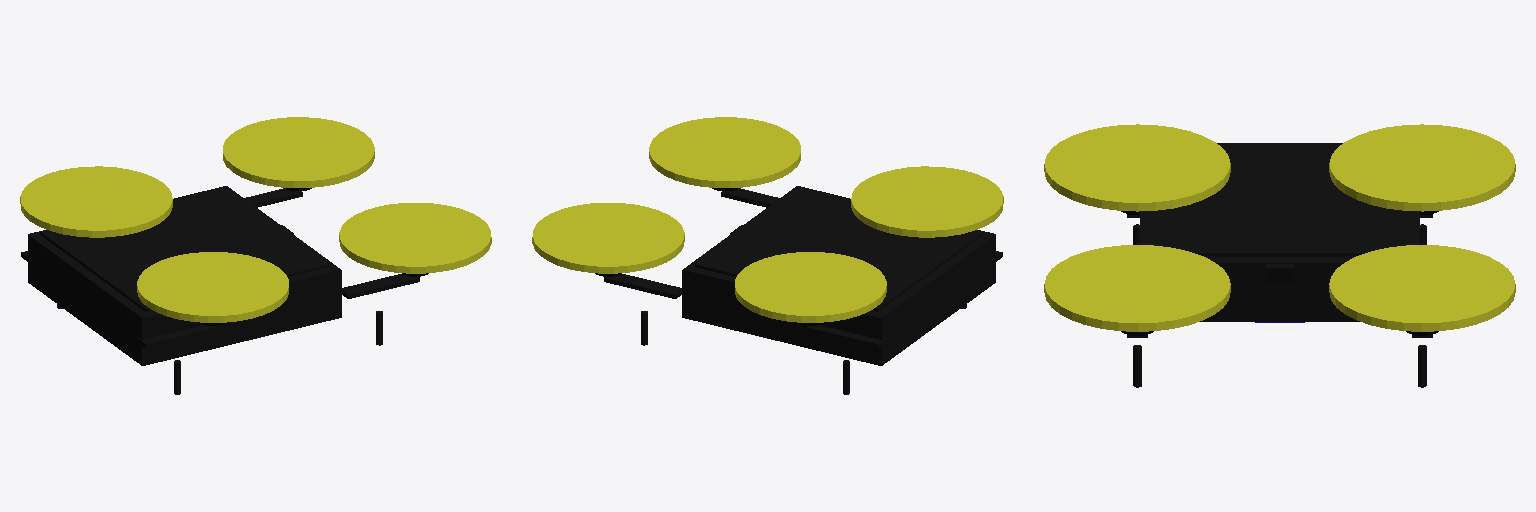
The robot description file, URDF, robot "spedix_s250q":
<?xml version="1.0"?>
  <robot name="spedix_s250q"
       arm="0.14"
       thrust2weight="2.8"
       kf="1.85e-8"
       km="7.94e-11">

  <!-- Frame Kit: 143g, Motors: 4x21g, ESCs: 4x13.5g, PDB: 22.5g, Flight Controller: 14g, 4S LiPo Battery: ~120g -->
  <!-- Gemfan Hurricane 51477 3-blade propellers: 4x4.15g -->
  <!-- Total estimated weight: ~400g (0.40kg) -->

  <!-- Main Body/Frame -->
  <link name="base_link">
    <inertial>
      <origin xyz="0 0 0"/>
      <mass value="0.40"/>  <!-- Total drone mass: 400g including 4S battery -->
      <inertia ixx="0.0032" ixy="0" ixz="0" iyy="0.0032" iyz="0" izz="0.0058"/>
    </inertial>

    <visual>
      <origin xyz="0 0 0"/>
      <geometry>
        <!-- Main carbon fiber frame body -->
        <box size="0.195 0.195 0.045"/>  <!-- Frame dimensions from specs -->
      </geometry>
      <material name="carbon_fiber">
        <color rgba="0.1 0.1 0.1 1"/>  <!-- Dark carbon fiber appearance -->
      </material>
    </visual>

    <collision>
      <origin xyz="0 0 0"/>
      <geometry>
        <!-- Simplified collision geometry -->
        <cylinder length="0.045" radius="0.10"/>
      </geometry>
    </collision>
  </link>

  <!-- Upper Frame Plate -->
  <link name="upper_plate">
    <inertial>
      <origin xyz="0 0 0"/>
      <mass value="0.025"/>
      <inertia ixx="2.5e-5" ixy="0" ixz="0" iyy="2.5e-5" iyz="0" izz="4.5e-5"/>
    </inertial>

    <visual>
      <origin xyz="0 0 0"/>
      <geometry>
        <box size="0.180 0.180 0.003"/>  <!-- 3mm carbon fiber plate -->
      </geometry>
      <material name="carbon_fiber">
        <color rgba="0.1 0.1 0.1 1"/>
      </material>
    </visual>
  </link>

  <!-- Lower Frame Plate -->
  <link name="lower_plate">
    <inertial>
      <origin xyz="0 0 0"/>
      <mass value="0.025"/>
      <inertia ixx="2.5e-5" ixy="0" ixz="0" iyy="2.5e-5" iyz="0" izz="4.5e-5"/>
    </inertial>

    <visual>
      <origin xyz="0 0 0"/>
      <geometry>
        <box size="0.180 0.180 0.003"/>  <!-- 3mm carbon fiber plate -->
      </geometry>
      <material name="carbon_fiber">
        <color rgba="0.1 0.1 0.1 1"/>
      </material>
    </visual>
  </link>

  <!-- Front Right Arm -->
  <link name="arm_fr">
    <inertial>
      <origin xyz="0.035 0 0"/>
      <mass value="0.015"/>
      <inertia ixx="1.5e-6" ixy="0" ixz="0" iyy="3.5e-5" iyz="0" izz="3.5e-5"/>
    </inertial>

    <visual>
      <origin xyz="0.035 0 0"/>
      <geometry>
        <box size="0.070 0.015 0.004"/>  <!-- Carbon fiber arm -->
      </geometry>
      <material name="carbon_fiber">
        <color rgba="0.1 0.1 0.1 1"/>
      </material>
    </visual>
  </link>

  <!-- Front Left Arm -->
  <link name="arm_fl">
    <inertial>
      <origin xyz="0.035 0 0"/>
      <mass value="0.015"/>
      <inertia ixx="1.5e-6" ixy="0" ixz="0" iyy="3.5e-5" iyz="0" izz="3.5e-5"/>
    </inertial>

    <visual>
      <origin xyz="0.035 0 0"/>
      <geometry>
        <box size="0.070 0.015 0.004"/>
      </geometry>
      <material name="carbon_fiber">
        <color rgba="0.1 0.1 0.1 1"/>
      </material>
    </visual>
  </link>

  <!-- Back Right Arm -->
  <link name="arm_br">
    <inertial>
      <origin xyz="0.035 0 0"/>
      <mass value="0.015"/>
      <inertia ixx="1.5e-6" ixy="0" ixz="0" iyy="3.5e-5" iyz="0" izz="3.5e-5"/>
    </inertial>

    <visual>
      <origin xyz="0.035 0 0"/>
      <geometry>
        <box size="0.070 0.015 0.004"/>
      </geometry>
      <material name="carbon_fiber">
        <color rgba="0.1 0.1 0.1 1"/>
      </material>
    </visual>
  </link>

  <!-- Back Left Arm -->
  <link name="arm_bl">
    <inertial>
      <origin xyz="0.035 0 0"/>
      <mass value="0.015"/>
      <inertia ixx="1.5e-6" ixy="0" ixz="0" iyy="3.5e-5" iyz="0" izz="3.5e-5"/>
    </inertial>

    <visual>
      <origin xyz="0.035 0 0"/>
      <geometry>
        <box size="0.070 0.015 0.004"/>
      </geometry>
      <material name="carbon_fiber">
        <color rgba="0.1 0.1 0.1 1"/>
      </material>
    </visual>
  </link>

  <!-- Sunnysky 2204 2300KV Motors -->
  <!-- Front Right Motor -->
  <link name="motor_fr">
    <inertial>
      <origin xyz="0 0 0"/>
      <mass value="0.021"/>  <!-- 21g per motor -->
      <inertia ixx="8.5e-6" ixy="0" ixz="0" iyy="8.5e-6" iyz="0" izz="1.2e-5"/>
    </inertial>

    <visual>
      <origin xyz="0 0 0"/>
      <geometry>
        <cylinder length="0.028" radius="0.0135"/>  <!-- 27mm diameter, 28mm height -->
      </geometry>
      <material name="motor_black">
        <color rgba="0.05 0.05 0.05 1"/>
      </material>
    </visual>

    <collision>
      <origin xyz="0 0 0"/>
      <geometry>
        <cylinder length="0.028" radius="0.0135"/>
      </geometry>
    </collision>
  </link>

  <!-- Front Left Motor -->
  <link name="motor_fl">
    <inertial>
      <origin xyz="0 0 0"/>
      <mass value="0.021"/>
      <inertia ixx="8.5e-6" ixy="0" ixz="0" iyy="8.5e-6" iyz="0" izz="1.2e-5"/>
    </inertial>

    <visual>
      <origin xyz="0 0 0"/>
      <geometry>
        <cylinder length="0.028" radius="0.0135"/>
      </geometry>
      <material name="motor_black">
        <color rgba="0.05 0.05 0.05 1"/>
      </material>
    </visual>

    <collision>
      <origin xyz="0 0 0"/>
      <geometry>
        <cylinder length="0.028" radius="0.0135"/>
      </geometry>
    </collision>
  </link>

  <!-- Back Right Motor -->
  <link name="motor_br">
    <inertial>
      <origin xyz="0 0 0"/>
      <mass value="0.021"/>
      <inertia ixx="8.5e-6" ixy="0" ixz="0" iyy="8.5e-6" iyz="0" izz="1.2e-5"/>
    </inertial>

    <visual>
      <origin xyz="0 0 0"/>
      <geometry>
        <cylinder length="0.028" radius="0.0135"/>
      </geometry>
      <material name="motor_black">
        <color rgba="0.05 0.05 0.05 1"/>
      </material>
    </visual>

    <collision>
      <origin xyz="0 0 0"/>
      <geometry>
        <cylinder length="0.028" radius="0.0135"/>
      </geometry>
    </collision>
  </link>

  <!-- Back Left Motor -->
  <link name="motor_bl">
    <inertial>
      <origin xyz="0 0 0"/>
      <mass value="0.021"/>
      <inertia ixx="8.5e-6" ixy="0" ixz="0" iyy="8.5e-6" iyz="0" izz="1.2e-5"/>
    </inertial>

    <visual>
      <origin xyz="0 0 0"/>
      <geometry>
        <cylinder length="0.028" radius="0.0135"/>
      </geometry>
      <material name="motor_black">
        <color rgba="0.05 0.05 0.05 1"/>
      </material>
    </visual>

    <collision>
      <origin xyz="0 0 0"/>
      <geometry>
        <cylinder length="0.028" radius="0.0135"/>
      </geometry>
    </collision>
  </link>

  <!-- Gemfan Hurricane 51477 3-blade Propellers -->
  <!-- Front Right Propeller -->
  <link name="prop_fr">
    <inertial>
      <origin xyz="0 0 0"/>
      <mass value="0.004"/>  <!-- 4.15g Gemfan Hurricane 51477 -->
      <inertia ixx="3.2e-6" ixy="0" ixz="0" iyy="3.2e-6" iyz="0" izz="5.8e-6"/>
    </inertial>

    <visual>
      <origin xyz="0 0 0"/>
      <geometry>
        <cylinder length="0.0065" radius="0.0647"/>  <!-- 5.1 inch (129.3mm) diameter, 6.5mm thick -->
      </geometry>
      <material name="prop_gemfan">
        <color rgba="0.8 0.8 0.2 0.9"/>  <!-- Yellow/translucent like Gemfan props -->
      </material>
    </visual>
  </link>

  <!-- Front Left Propeller -->
  <link name="prop_fl">
    <inertial>
      <origin xyz="0 0 0"/>
      <mass value="0.004"/>  <!-- 4.15g Gemfan Hurricane 51477 -->
      <inertia ixx="3.2e-6" ixy="0" ixz="0" iyy="3.2e-6" iyz="0" izz="5.8e-6"/>
    </inertial>

    <visual>
      <origin xyz="0 0 0"/>
      <geometry>
        <cylinder length="0.0065" radius="0.0647"/>  <!-- 5.1 inch (129.3mm) diameter, 6.5mm thick -->
      </geometry>
      <material name="prop_gemfan">
        <color rgba="0.8 0.8 0.2 0.9"/>
      </material>
    </visual>
  </link>

  <!-- Back Right Propeller -->
  <link name="prop_br">
    <inertial>
      <origin xyz="0 0 0"/>
      <mass value="0.004"/>  <!-- 4.15g Gemfan Hurricane 51477 -->
      <inertia ixx="3.2e-6" ixy="0" ixz="0" iyy="3.2e-6" iyz="0" izz="5.8e-6"/>
    </inertial>

    <visual>
      <origin xyz="0 0 0"/>
      <geometry>
        <cylinder length="0.0065" radius="0.0647"/>  <!-- 5.1 inch (129.3mm) diameter, 6.5mm thick -->
      </geometry>
      <material name="prop_gemfan">
        <color rgba="0.8 0.8 0.2 0.9"/>
      </material>
    </visual>
  </link>

  <!-- Back Left Propeller -->
  <link name="prop_bl">
    <inertial>
      <origin xyz="0 0 0"/>
      <mass value="0.004"/>  <!-- 4.15g Gemfan Hurricane 51477 -->
      <inertia ixx="3.2e-6" ixy="0" ixz="0" iyy="3.2e-6" iyz="0" izz="5.8e-6"/>
    </inertial>

    <visual>
      <origin xyz="0 0 0"/>
      <geometry>
        <cylinder length="0.0065" radius="0.0647"/>  <!-- 5.1 inch (129.3mm) diameter, 6.5mm thick -->
      </geometry>
      <material name="prop_gemfan">
        <color rgba="0.8 0.8 0.2 0.9"/>
      </material>
    </visual>
  </link>

  <!-- Landing Legs -->
  <link name="landing_leg_fr">
    <inertial>
      <origin xyz="0 0 -0.015"/>
      <mass value="0.002"/>
      <inertia ixx="1e-6" ixy="0" ixz="0" iyy="1e-6" iyz="0" izz="5e-7"/>
    </inertial>

    <visual>
      <origin xyz="0 0 -0.015"/>
      <geometry>
        <cylinder length="0.030" radius="0.003"/>
      </geometry>
      <material name="carbon_fiber">
        <color rgba="0.1 0.1 0.1 1"/>
      </material>
    </visual>
  </link>

  <link name="landing_leg_fl">
    <inertial>
      <origin xyz="0 0 -0.015"/>
      <mass value="0.002"/>
      <inertia ixx="1e-6" ixy="0" ixz="0" iyy="1e-6" iyz="0" izz="5e-7"/>
    </inertial>

    <visual>
      <origin xyz="0 0 -0.015"/>
      <geometry>
        <cylinder length="0.030" radius="0.003"/>
      </geometry>
      <material name="carbon_fiber">
        <color rgba="0.1 0.1 0.1 1"/>
      </material>
    </visual>
  </link>

  <link name="landing_leg_br">
    <inertial>
      <origin xyz="0 0 -0.015"/>
      <mass value="0.002"/>
      <inertia ixx="1e-6" ixy="0" ixz="0" iyy="1e-6" iyz="0" izz="5e-7"/>
    </inertial>

    <visual>
      <origin xyz="0 0 -0.015"/>
      <geometry>
        <cylinder length="0.030" radius="0.003"/>
      </geometry>
      <material name="carbon_fiber">
        <color rgba="0.1 0.1 0.1 1"/>
      </material>
    </visual>
  </link>

  <link name="landing_leg_bl">
    <inertial>
      <origin xyz="0 0 -0.015"/>
      <mass value="0.002"/>
      <inertia ixx="1e-6" ixy="0" ixz="0" iyy="1e-6" iyz="0" izz="5e-7"/>
    </inertial>

    <visual>
      <origin xyz="0 0 -0.015"/>
      <geometry>
        <cylinder length="0.030" radius="0.003"/>
      </geometry>
      <material name="carbon_fiber">
        <color rgba="0.1 0.1 0.1 1"/>
      </material>
    </visual>
  </link>

  <!-- 4S LiPo Battery -->
  <link name="battery">
    <inertial>
      <origin xyz="0 0 0"/>
      <mass value="0.120"/>  <!-- ~120g 4S LiPo battery -->
      <inertia ixx="6.5e-5" ixy="0" ixz="0" iyy="2.2e-4" iyz="0" izz="2.2e-4"/>
    </inertial>

    <visual>
      <origin xyz="0 0 0"/>
      <geometry>
        <box size="0.095 0.035 0.025"/>  <!-- Typical 4S LiPo dimensions -->
      </geometry>
      <material name="battery_blue">
        <color rgba="0.1 0.1 0.8 1"/>
      </material>
    </visual>

    <collision>
      <origin xyz="0 0 0"/>
      <geometry>
        <box size="0.095 0.035 0.025"/>
      </geometry>
    </collision>
  </link>

  <!-- 4S LiPo Battery -->
  <joint name="base_to_battery" type="fixed">
    <parent link="base_link"/>
    <child link="battery"/>
    <origin xyz="0 0 -0.035"/>  <!-- Battery mounted below main frame -->
  </joint>

  <!-- FPV Camera -->
  <link name="fpv_camera">
    <inertial>
      <origin xyz="0 0 0"/>
      <mass value="0.008"/>  <!-- ~8g FPV camera -->
      <inertia ixx="1e-6" ixy="0" ixz="0" iyy="1e-6" iyz="0" izz="1e-6"/>
    </inertial>

    <visual>
      <origin xyz="0 0 0"/>
      <geometry>
        <box size="0.020 0.020 0.015"/>  <!-- Small FPV camera -->
      </geometry>
      <material name="camera_black">
        <color rgba="0.1 0.1 0.1 1"/>
      </material>
    </visual>
  </link>

  <!-- JOINTS -->
  <!-- Upper and Lower Plates -->
  <joint name="base_to_upper_plate" type="fixed">
    <parent link="base_link"/>
    <child link="upper_plate"/>
    <origin xyz="0 0 0.025"/>
  </joint>

  <joint name="base_to_lower_plate" type="fixed">
    <parent link="base_link"/>
    <child link="lower_plate"/>
    <origin xyz="0 0 -0.025"/>
  </joint>

  <!-- Arms (280mm wheelbase = 140mm from center) -->
  <joint name="base_to_arm_fr" type="fixed">
    <parent link="base_link"/>
    <child link="arm_fr"/>
    <origin xyz="0.099 -0.099 0"/>  <!-- 45° position, 140mm from center -->
  </joint>

  <joint name="base_to_arm_fl" type="fixed">
    <parent link="base_link"/>
    <child link="arm_fl"/>
    <origin xyz="0.099 0.099 0"/>
  </joint>

  <joint name="base_to_arm_br" type="fixed">
    <parent link="base_link"/>
    <child link="arm_br"/>
    <origin xyz="-0.099 -0.099 0"/>
  </joint>

  <joint name="base_to_arm_bl" type="fixed">
    <parent link="base_link"/>
    <child link="arm_bl"/>
    <origin xyz="-0.099 0.099 0"/>
  </joint>

  <!-- Motors -->
  <joint name="arm_fr_to_motor_fr" type="fixed">
    <parent link="arm_fr"/>
    <child link="motor_fr"/>
    <origin xyz="0.070 0 0.020"/>  <!-- At end of arm -->
  </joint>

  <joint name="arm_fl_to_motor_fl" type="fixed">
    <parent link="arm_fl"/>
    <child link="motor_fl"/>
    <origin xyz="0.070 0 0.020"/>
  </joint>

  <joint name="arm_br_to_motor_br" type="fixed">
    <parent link="arm_br"/>
    <child link="motor_br"/>
    <origin xyz="0.070 0 0.020"/>
  </joint>

  <joint name="arm_bl_to_motor_bl" type="fixed">
    <parent link="arm_bl"/>
    <child link="motor_bl"/>
    <origin xyz="0.070 0 0.020"/>
  </joint>

  <!-- Propellers -->
  <joint name="motor_fr_to_prop_fr" type="continuous">
    <parent link="motor_fr"/>
    <child link="prop_fr"/>
    <origin xyz="0 0 0.016"/>
    <axis xyz="0 0 1"/>
  </joint>

  <joint name="motor_fl_to_prop_fl" type="continuous">
    <parent link="motor_fl"/>
    <child link="prop_fl"/>
    <origin xyz="0 0 0.016"/>
    <axis xyz="0 0 1"/>
  </joint>

  <joint name="motor_br_to_prop_br" type="continuous">
    <parent link="motor_br"/>
    <child link="prop_br"/>
    <origin xyz="0 0 0.016"/>
    <axis xyz="0 0 1"/>
  </joint>

  <joint name="motor_bl_to_prop_bl" type="continuous">
    <parent link="motor_bl"/>
    <child link="prop_bl"/>
    <origin xyz="0 0 0.016"/>
    <axis xyz="0 0 1"/>
  </joint>

  <!-- Landing Legs -->
  <joint name="arm_fr_to_leg_fr" type="fixed">
    <parent link="arm_fr"/>
    <child link="landing_leg_fr"/>
    <origin xyz="0.035 0 -0.025"/>
  </joint>

  <joint name="arm_fl_to_leg_fl" type="fixed">
    <parent link="arm_fl"/>
    <child link="landing_leg_fl"/>
    <origin xyz="0.035 0 -0.025"/>
  </joint>

  <joint name="arm_br_to_leg_br" type="fixed">
    <parent link="arm_br"/>
    <child link="landing_leg_br"/>
    <origin xyz="0.035 0 -0.025"/>
  </joint>

  <joint name="arm_bl_to_leg_bl" type="fixed">
    <parent link="arm_bl"/>
    <child link="landing_leg_bl"/>
    <origin xyz="0.035 0 -0.025"/>
  </joint>

  <!-- FPV Camera -->
  <joint name="base_to_fpv_camera" type="fixed">
    <parent link="base_link"/>
    <child link="fpv_camera"/>
    <origin xyz="0.090 0 0.015" rpy="0 0.2 0"/>  <!-- Slightly angled forward -->
  </joint>

</robot>

--- Render facts (derived) ---
Views: 3 orthographic renders of the robot side by side, from view 1: azimuth 30°, elevation 25°; view 2: azimuth 150°, elevation 25°; view 3: azimuth 270°, elevation 25°.
Model spedix_s250q with 21 links and 20 joints (4 continuous, 16 fixed), rooted at base_link, posed all joints at 0.
Visible links, largest first — view 1: base_link, upper_plate, prop_bl, prop_fr, prop_fl, prop_br, arm_fr, arm_br, arm_fl; view 2: base_link, upper_plate, prop_br, prop_fl, prop_fr, prop_bl, arm_fl, arm_bl, arm_fr; view 3: upper_plate, prop_fr, prop_fl, prop_br, prop_bl, base_link, fpv_camera.
Boxes of the visible links, <box> form: base_link: <box>28,186,341,365</box>; upper_plate: <box>40,187,328,311</box>; prop_bl: <box>20,166,172,237</box>; prop_fr: <box>339,203,491,273</box>; prop_fl: <box>223,117,374,187</box>; prop_br: <box>137,252,288,322</box>; arm_fr: <box>342,274,419,298</box>; arm_br: <box>137,325,217,348</box>; arm_fl: <box>244,188,302,207</box>; base_link: <box>682,186,995,365</box>; upper_plate: <box>695,187,983,311</box>; prop_br: <box>851,166,1003,237</box>; prop_fl: <box>532,203,684,273</box>; prop_fr: <box>649,117,800,187</box>; prop_bl: <box>735,252,886,322</box>; arm_fl: <box>604,274,681,298</box>; arm_bl: <box>806,325,886,348</box>; arm_fr: <box>721,188,779,207</box>; upper_plate: <box>1151,143,1408,256</box>; prop_fr: <box>1044,245,1230,331</box>; prop_fl: <box>1329,245,1515,331</box>; prop_br: <box>1044,124,1230,211</box>; prop_bl: <box>1329,124,1515,211</box>; base_link: <box>1140,211,1419,320</box>; fpv_camera: <box>1266,257,1293,284</box>.
Size in the robot's own frame: 0.3327 by 0.3274 by 0.0943 metres.
Geometry: primitives only (box / cylinder / sphere), no mesh files.